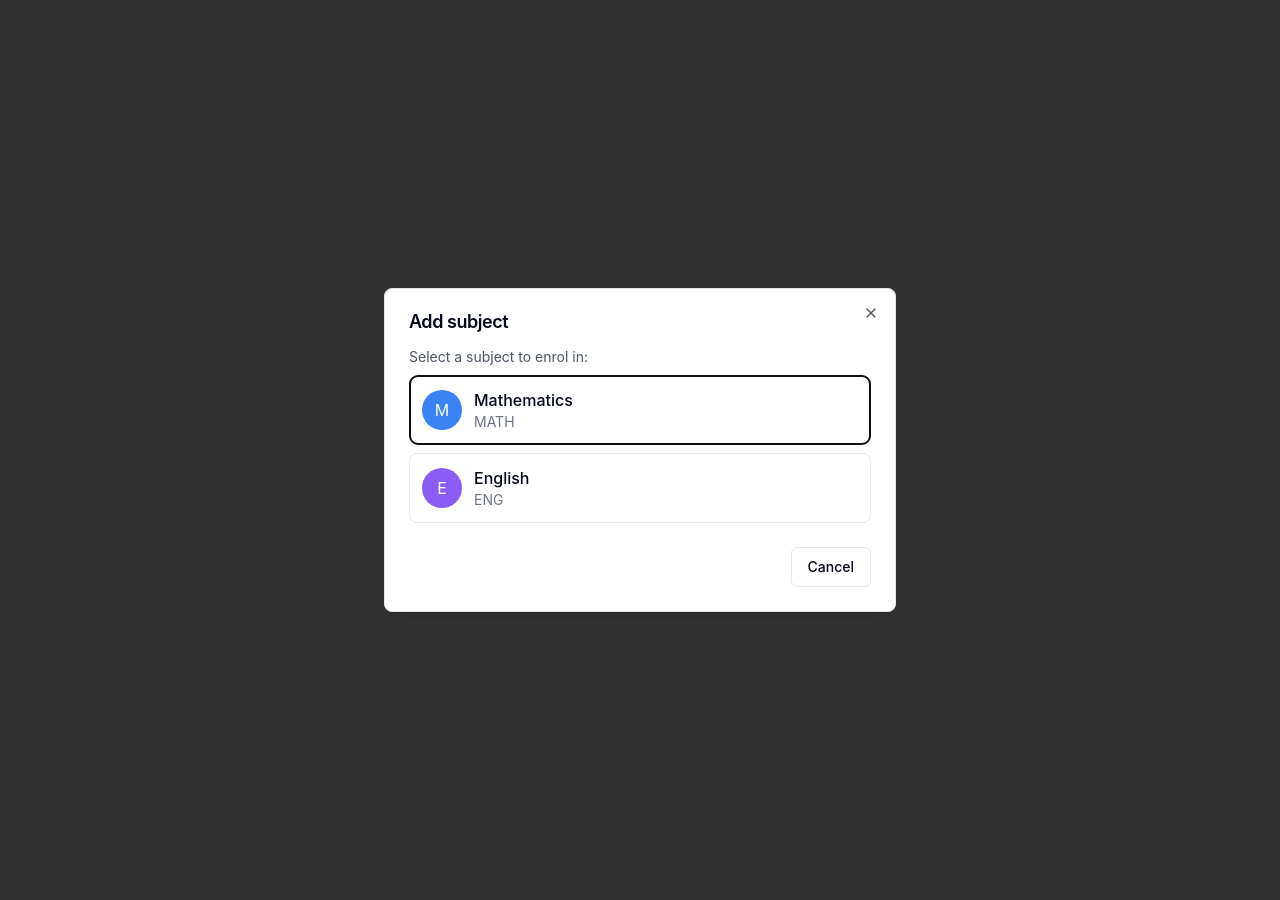
Test case: SubjectEnrolModal › shows confirmation when subject is selected
Click the text "Mathematics".
click(523, 400)  # box [474, 388, 573, 412]
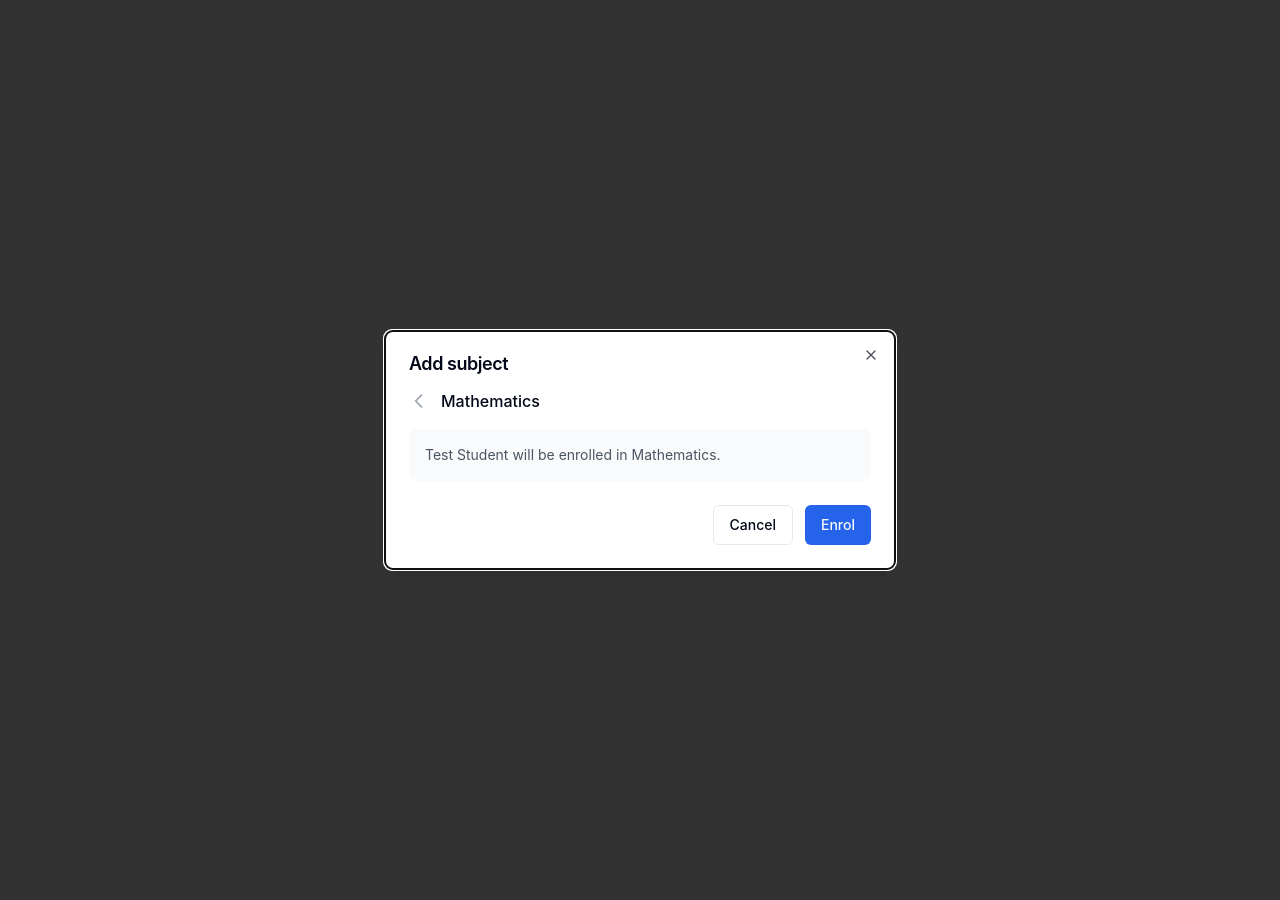
Check: the text "Test Student will be enrolled in Mathematics." is shown, box [425, 446, 721, 463]
